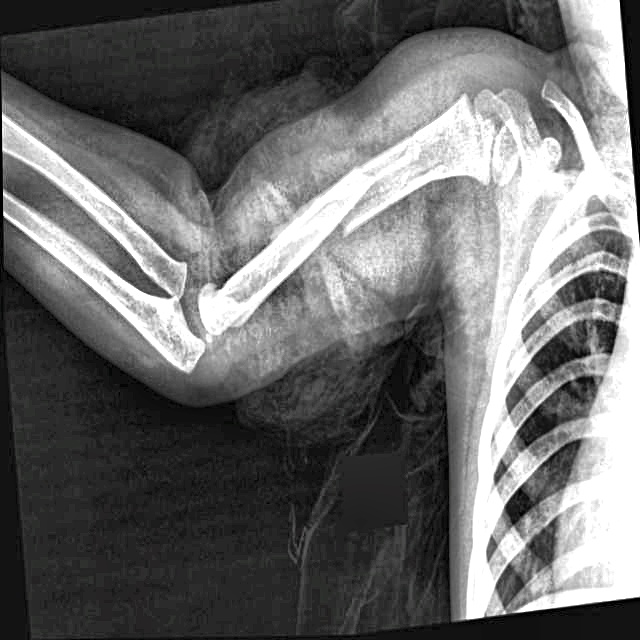Transverse: (320, 143, 391, 256)
